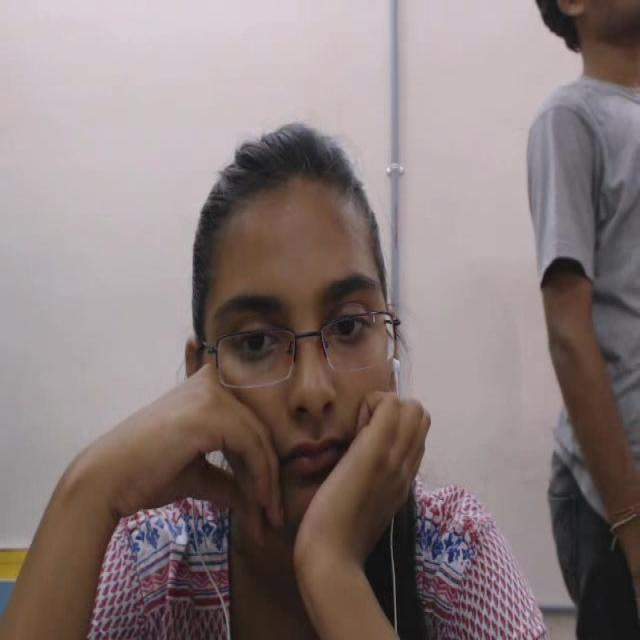Bored: (150, 107, 438, 558)
